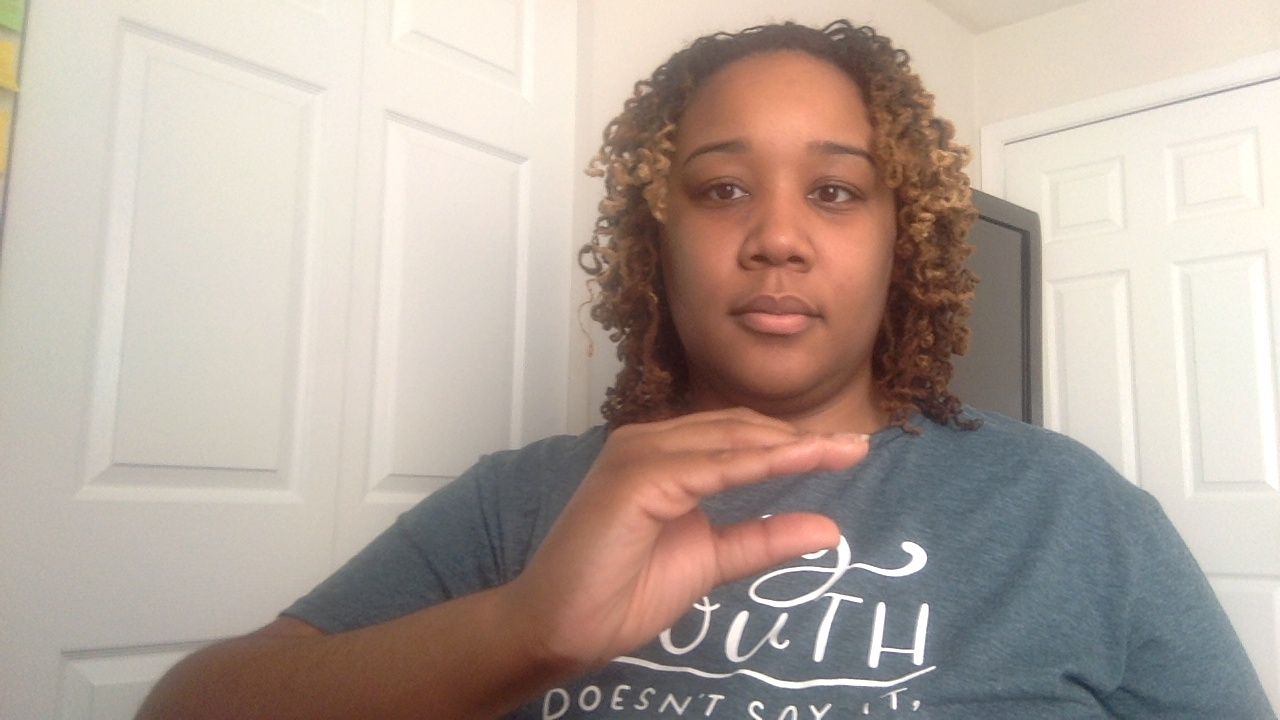no: (533, 396, 879, 677)
